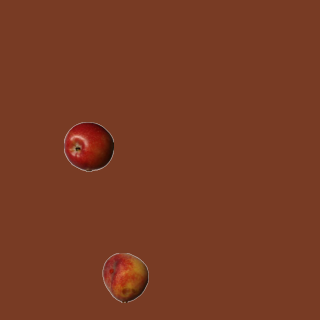Apple Braeburn: (63, 121, 113, 171)
Peach: (100, 252, 150, 302)
